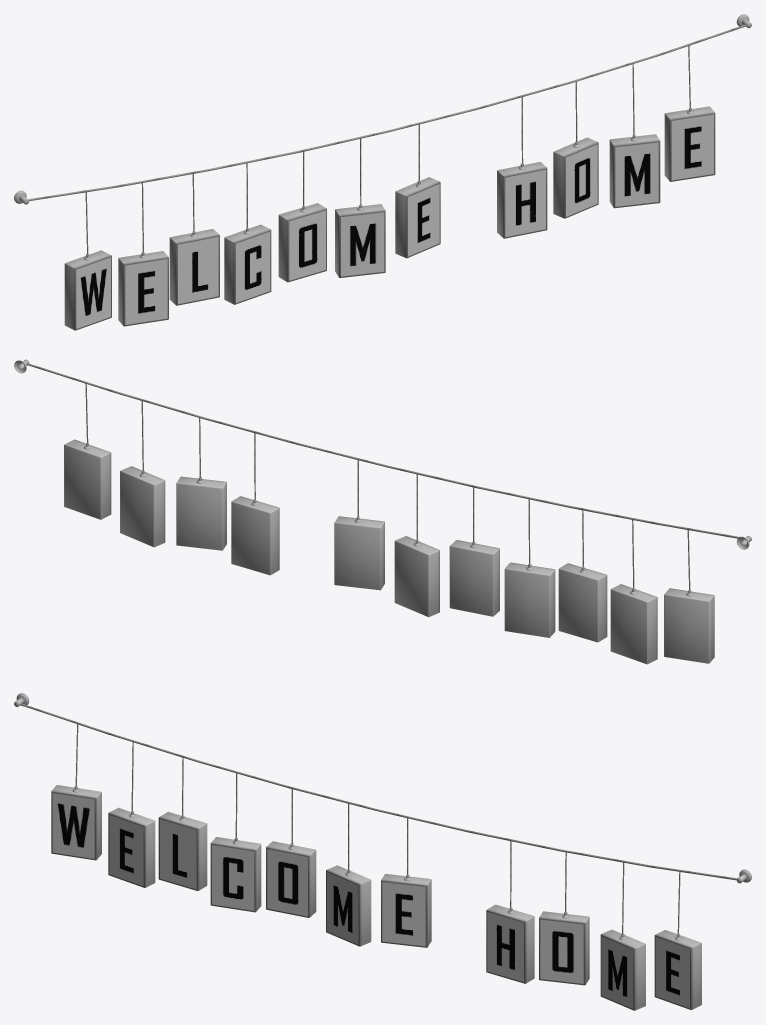
Rendered from LettersLightBox01_GR1.FBX.
3 renders of one model, top to bottom at view 1: azimuth 30°, elevation 25°; view 2: azimuth 150°, elevation 25°; view 3: azimuth 330°, elevation 25°, orthographic.
Visible parts, largest first — view 1: LettersLightBox01_GR1; view 2: LettersLightBox01_GR1; view 3: LettersLightBox01_GR1.
Boxes of the visible parts, box(x1,y1,x2,y2) form: LettersLightBox01_GR1: box(14, 14, 751, 330); LettersLightBox01_GR1: box(14, 359, 751, 664); LettersLightBox01_GR1: box(14, 693, 751, 1010).
Size of what is drawn, in the model's own units: 3.06 by 0.6274 by 0.1054.
